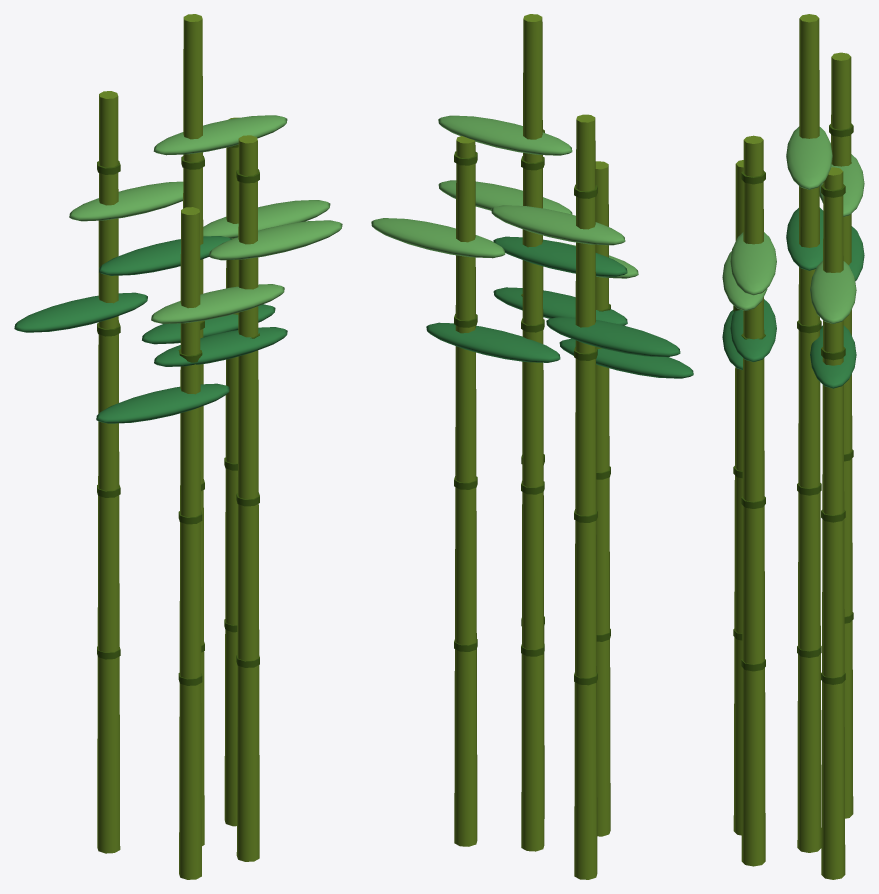
3 views of the same model, side by side, from view 1: azimuth 30°, elevation 25°; view 2: azimuth 150°, elevation 25°; view 3: azimuth 270°, elevation 25° (orthographic).
Visible parts, largest first — view 1: bamboo-cluster; view 2: bamboo-cluster; view 3: bamboo-cluster.
Part boxes in pixels (left/top/right/bottom): bamboo-cluster: left=14, top=14, right=342, bottom=879; bamboo-cluster: left=371, top=14, right=693, bottom=879; bamboo-cluster: left=722, top=14, right=864, bottom=879.
Bounding box in the file's own units: 0.91 × 2.3 × 0.357.
